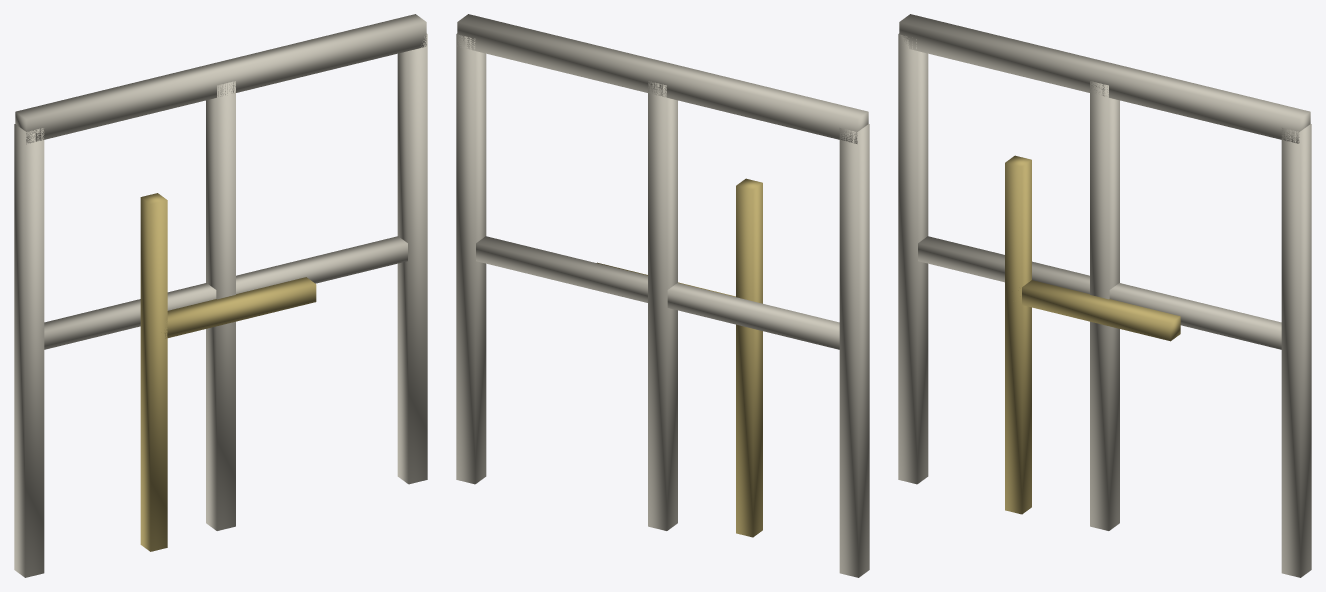
File: civic_gate_l90_h100.glb
3 renders of one model, left to right at view 1: azimuth 30°, elevation 25°; view 2: azimuth 150°, elevation 25°; view 3: azimuth 330°, elevation 25°, orthographic.
Visible parts, largest first — view 1: world; view 2: world; view 3: world.
Boxes of the visible parts, x1,y1,x2,y2 form: world: (14, 14, 427, 577); world: (456, 14, 869, 577); world: (898, 14, 1311, 577).
Size of the model in its own units: 0.945 by 1.03 by 0.0825.
